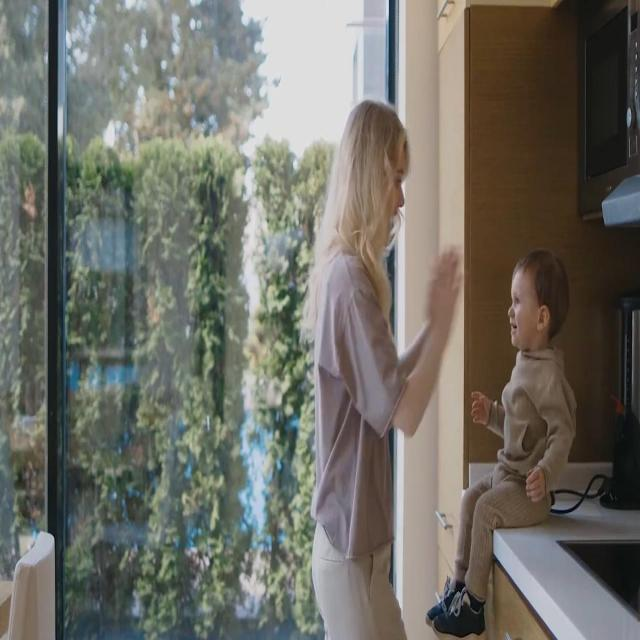no-helmet: (508, 274, 536, 345), (388, 151, 408, 243)
